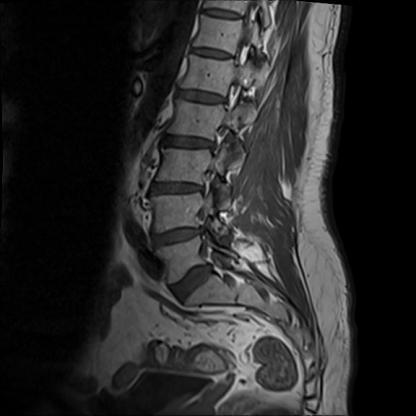Disc Bulgerotation: (149, 179, 208, 199), (162, 133, 215, 153), (155, 226, 205, 247)
Disc Protrusionrotation: (166, 263, 220, 302)
